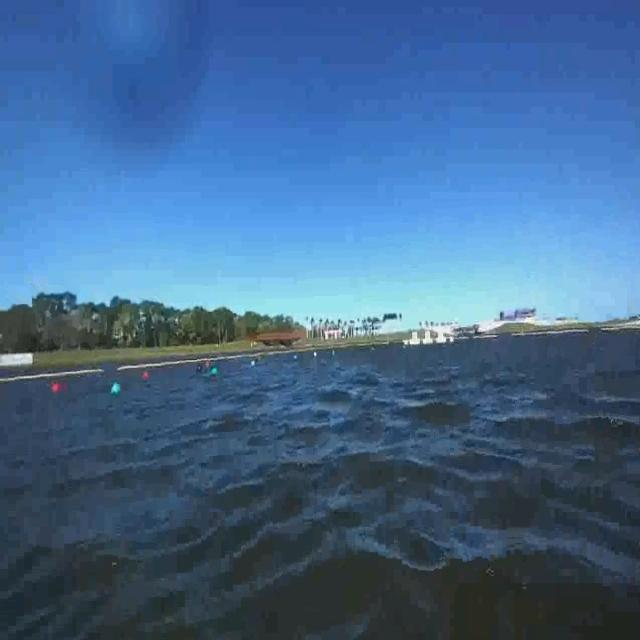green-buoy: (110, 381, 124, 398)
red-buoy: (52, 379, 63, 391)
